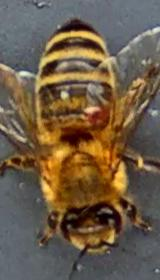varroa_mite: (77, 96, 115, 130)
